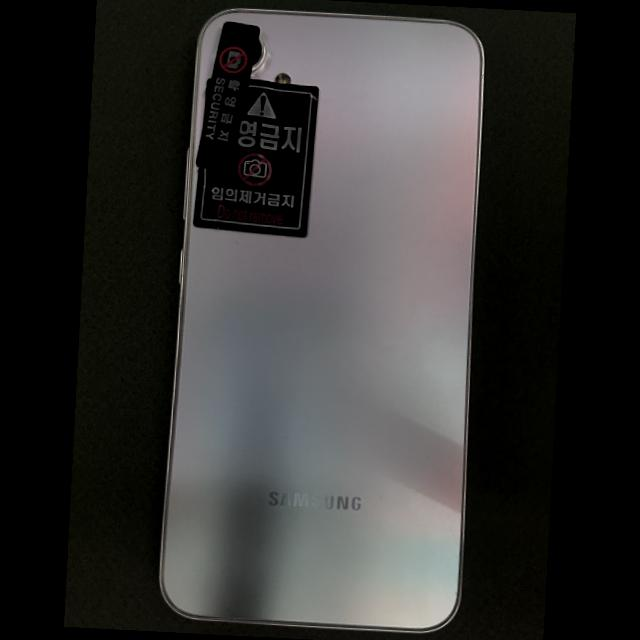lens: (252, 38, 265, 71)
phone: (160, 9, 484, 632)
sticker: (193, 79, 319, 238), (196, 22, 262, 173)
